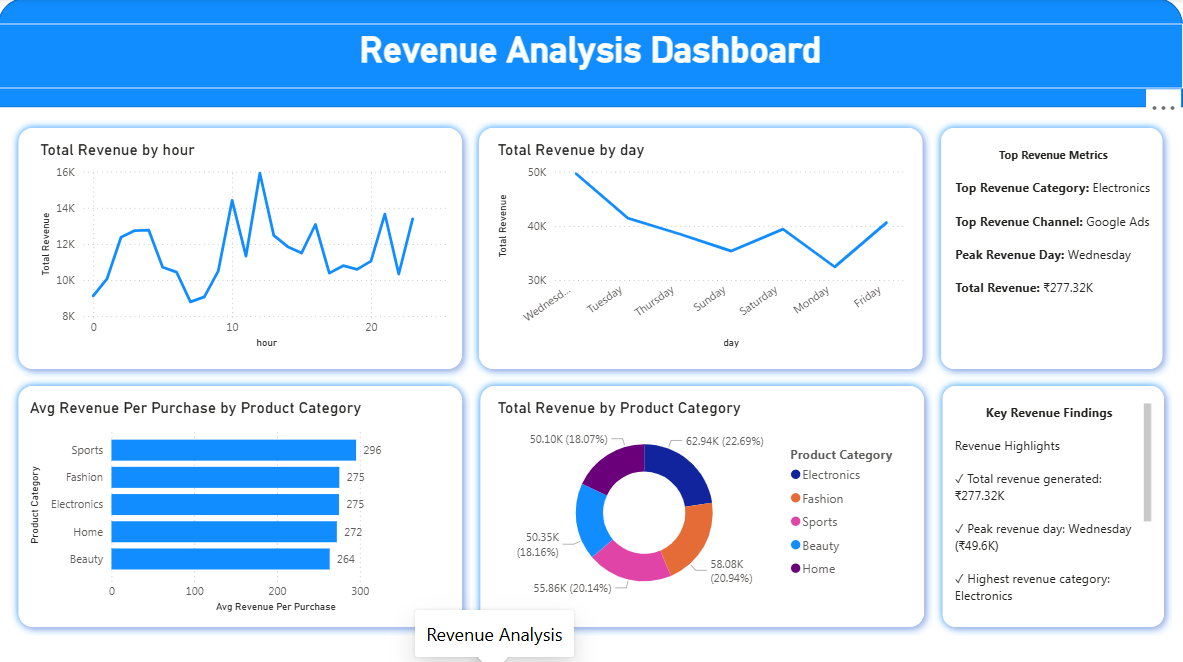

This screenshot's page, from the dashboard's own definition file:
{"tool":"powerbi","page":{"name":"Revenue Analysis ","canvas":[1280,720],"ordinal":2},"visuals":[{"type":"shape","box":[0,0,1279.2,118.2],"z":0},{"type":"textbox","box":[0,27.5,1279.2,69.6],"z":1000},{"type":"shape","box":[13,131.2,497.1,278.5],"z":2000},{"type":"shape","box":[13,409.7,497.1,278.5],"z":3000},{"type":"shape","box":[510.1,131.2,497.1,278.5],"z":4000},{"type":"shape","box":[511.7,409.7,497.1,278.5],"z":5000},{"type":"shape","box":[1008.8,131.2,257.5,278.5],"z":6000},{"type":"shape","box":[1010.4,409.7,257.5,278.5],"z":7000},{"type":"lineChart","fields":{"Category":["public user_funnel.hour"],"Y":["public user_funnel.Total Revenue"]},"box":[40.5,153.8,451.8,228.3],"z":8000},{"type":"lineChart","fields":{"Y":["public user_funnel.Total Revenue"],"Category":["public user_funnel.day"]},"box":[534.3,153.8,451.8,228.3],"z":9000},{"type":"clusteredBarChart","fields":{"Y":["public user_funnel.Avg Revenue Per Purchase"],"Category":["public user_funnel.Product Category"]},"box":[29.1,432.3,463.1,234.8],"z":10000},{"type":"donutChart","fields":{"Category":["public user_funnel.Product Category"],"Y":["public user_funnel.Total Revenue"]},"box":[534.3,432.3,451.8,226.7],"z":10001},{"type":"textbox","box":[1028.2,153.8,221.8,238],"z":10002},{"type":"textbox","box":[1028.2,432.3,221.8,234.8],"z":10003}]}

Visuals, with their boxes in screenshot pixels (x1, y1, x2, y2), scaled from the page's 1280x720 canvas onto the 1183x662 screenshot:
shape: Rect(0, 0, 1182, 109)
textbox: Rect(0, 25, 1182, 89)
shape: Rect(12, 121, 471, 377)
shape: Rect(12, 377, 471, 633)
shape: Rect(471, 121, 931, 377)
shape: Rect(473, 377, 932, 633)
shape: Rect(932, 121, 1170, 377)
shape: Rect(934, 377, 1172, 633)
lineChart - public user_funnel.hour x public user_funnel.Total Revenue: Rect(37, 141, 455, 351)
lineChart - public user_funnel.Total Revenue x public user_funnel.day: Rect(494, 141, 911, 351)
clusteredBarChart - public user_funnel.Avg Revenue Per Purchase x public user_funnel.Product Category: Rect(27, 397, 455, 613)
donutChart - public user_funnel.Product Category x public user_funnel.Total Revenue: Rect(494, 397, 911, 606)
textbox: Rect(950, 141, 1155, 360)
textbox: Rect(950, 397, 1155, 613)
